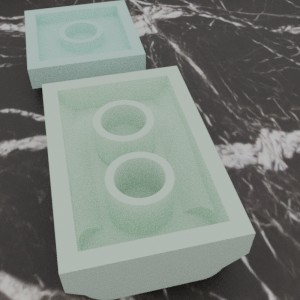lego: (42, 65, 255, 299), (24, 0, 145, 88)
